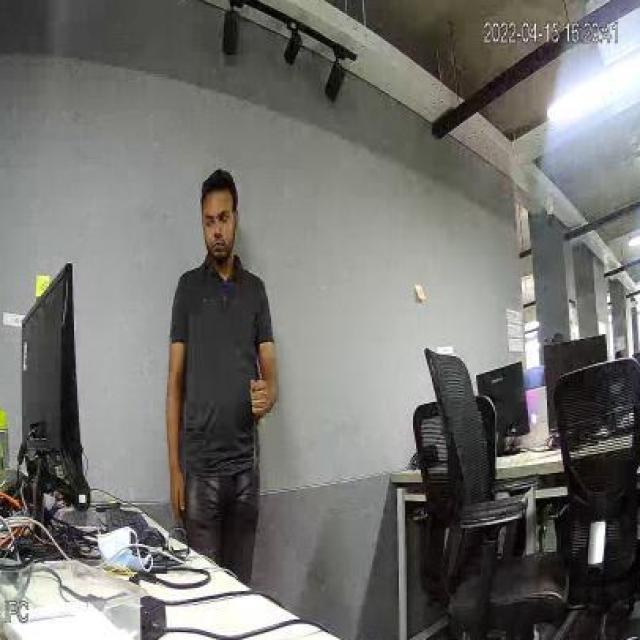Knife: (237, 351, 274, 488)
